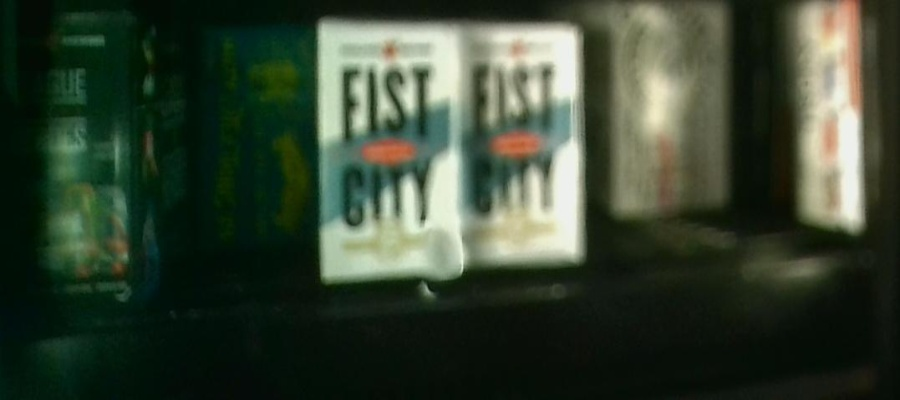bottle: (14, 14, 191, 319), (315, 17, 461, 281), (462, 15, 585, 274), (587, 5, 733, 212), (195, 20, 316, 252)
